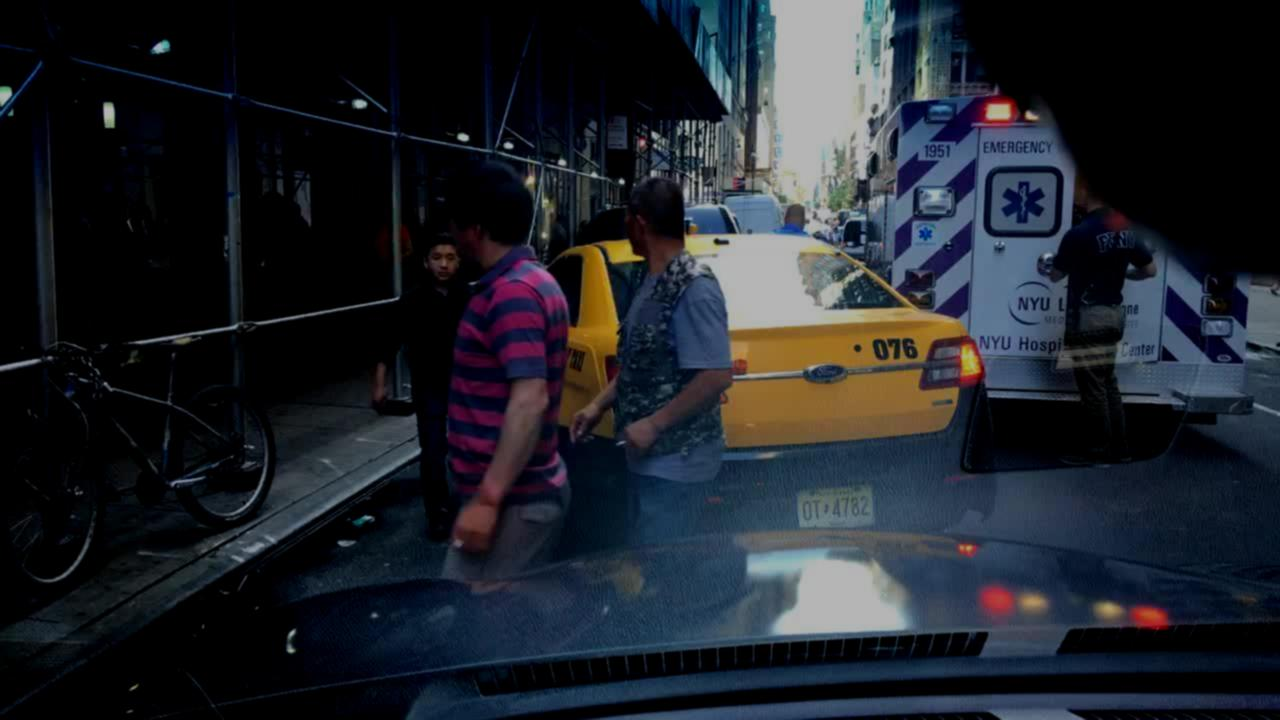ford: (793, 356, 864, 390)
